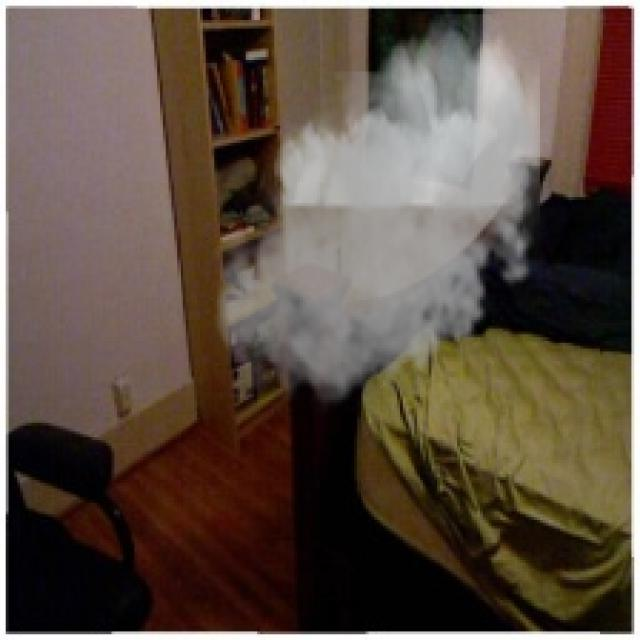smoke: (209, 14, 554, 420)
